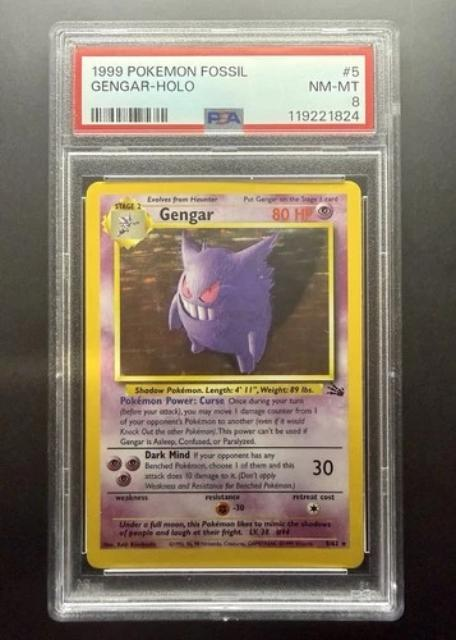Card: (79, 174, 365, 571)
Name: (155, 202, 216, 227)
